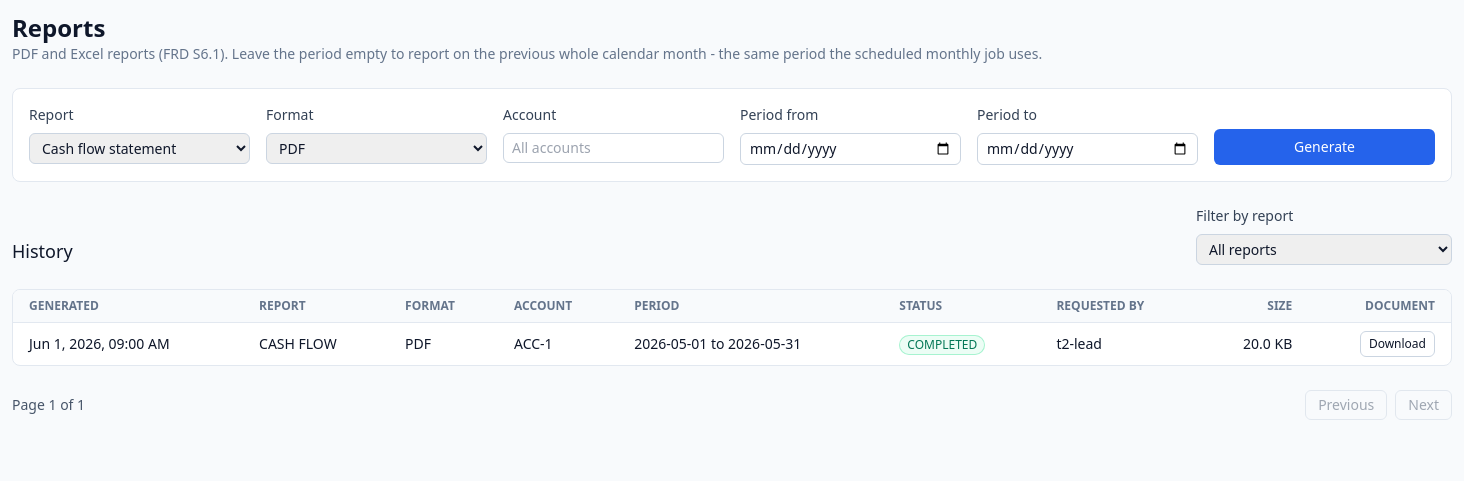
Reports page › treats a FAILED run as an error even though the request succeeded
Expected: the text "CASH FLOW" is shown, [243,322,389,365]
Click the button "Generate": [1324, 147] box [1214,129,1435,165]
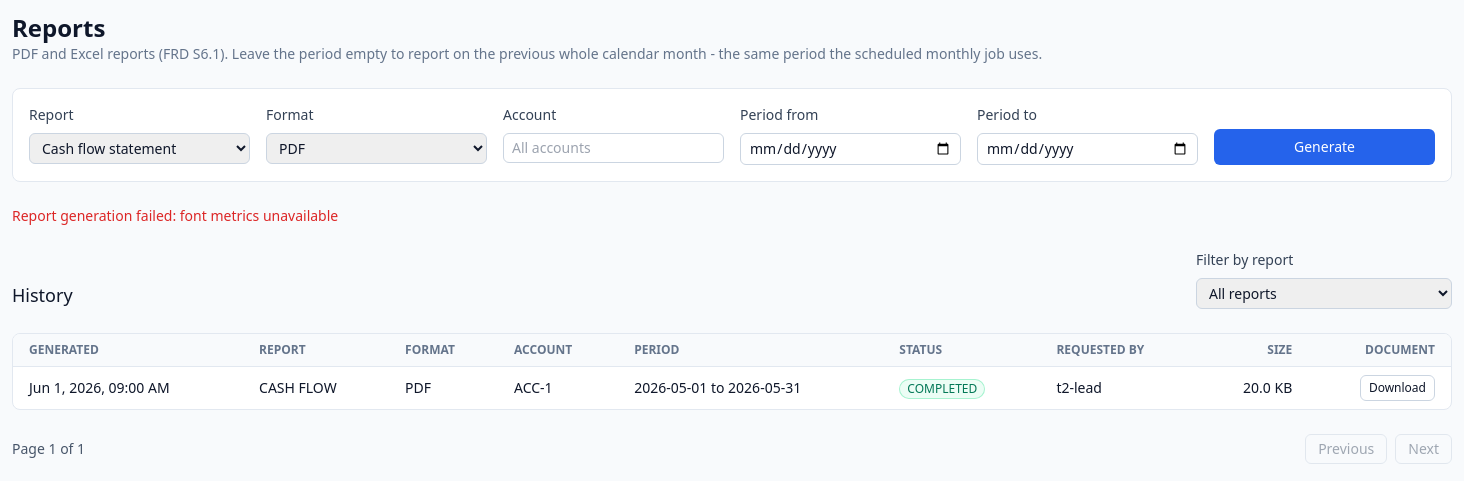
Expected: the message shows "font metrics unavailable", [12,206,338,225]
